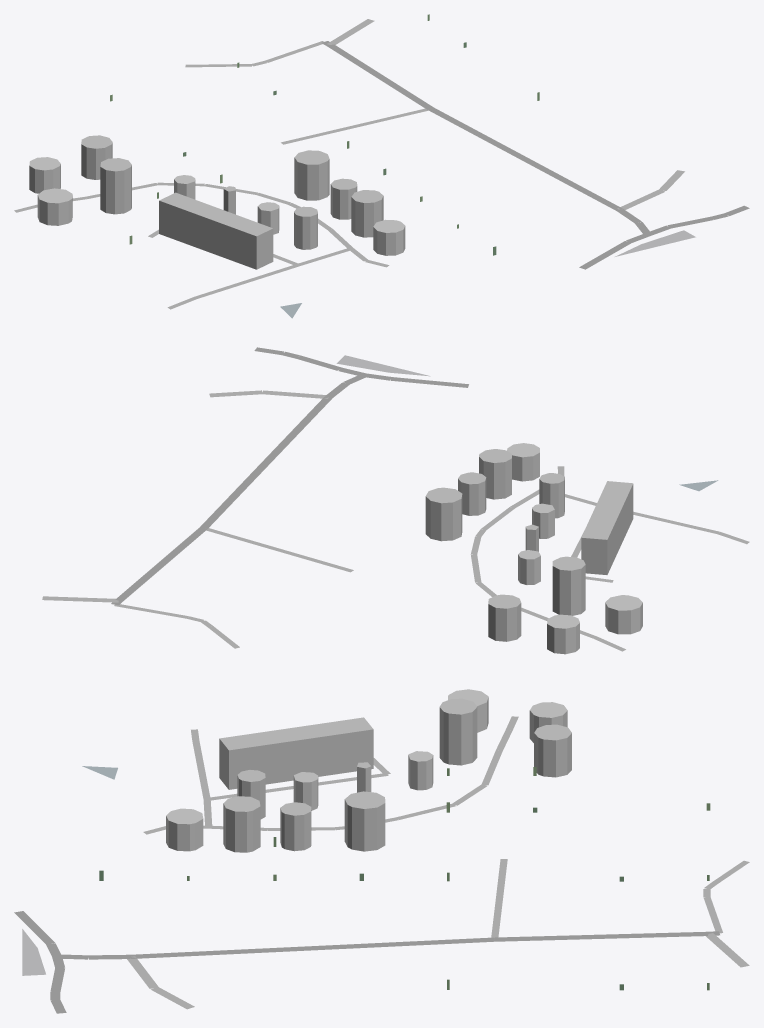
3 views of the same model, one above another, from view 1: azimuth 30°, elevation 25°; view 2: azimuth 150°, elevation 25°; view 3: azimuth 270°, elevation 25° (orthographic). The views are drawn at different scales.
Size of the model in its own units: 512 by 43.32 by 509.
